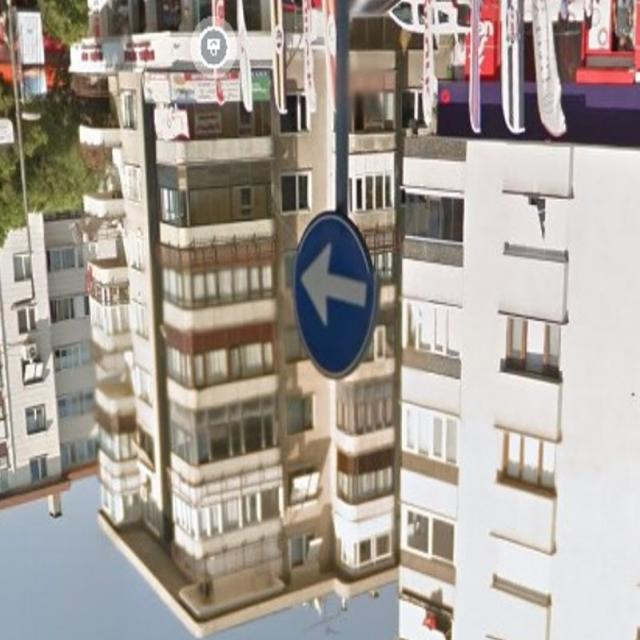Turn Left: (295, 212, 377, 384)
